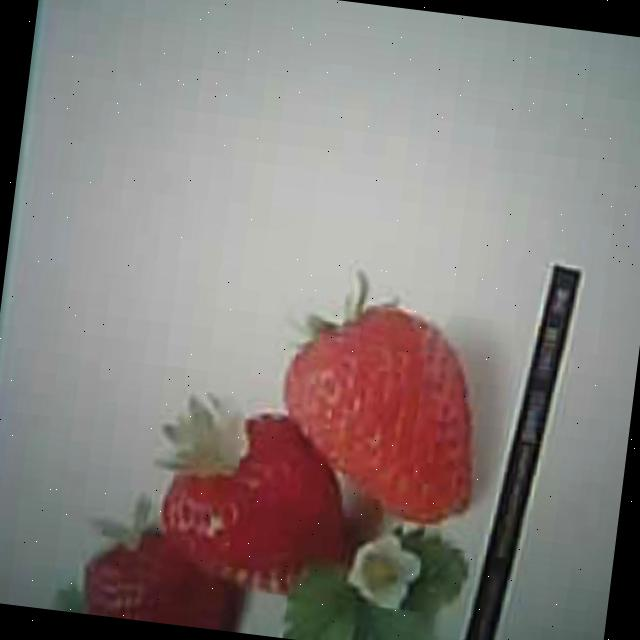strawberry: (266, 298, 486, 529), (152, 403, 368, 610)
